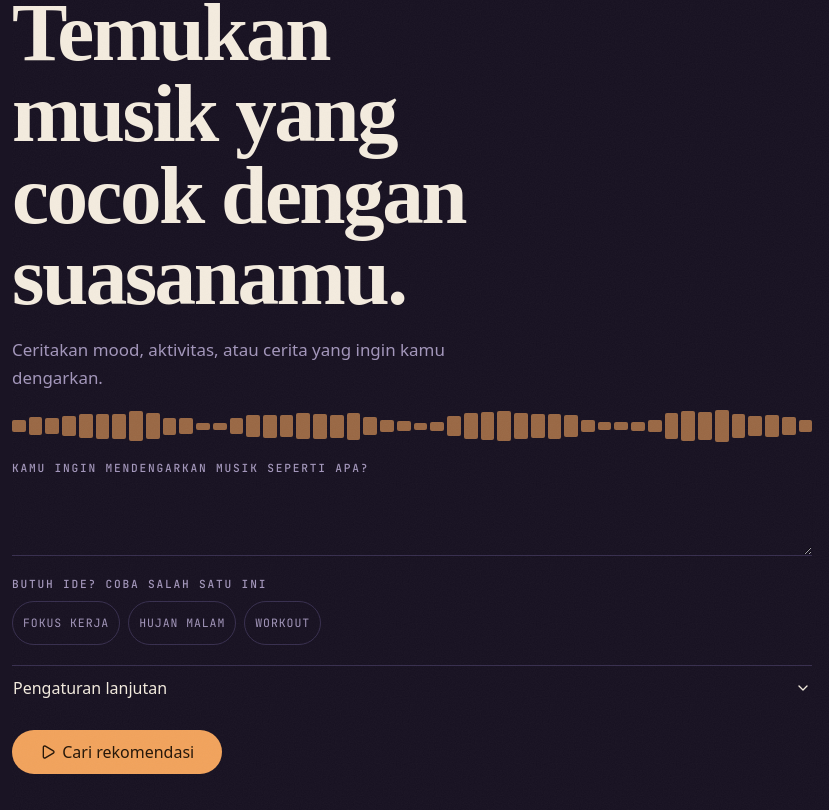
PromptComposer › shows localized validation for a whitespace-only prompt
(page scrolled)
Click the button "Cari rekomendasi" at (117, 752), box [12,730,222,774]
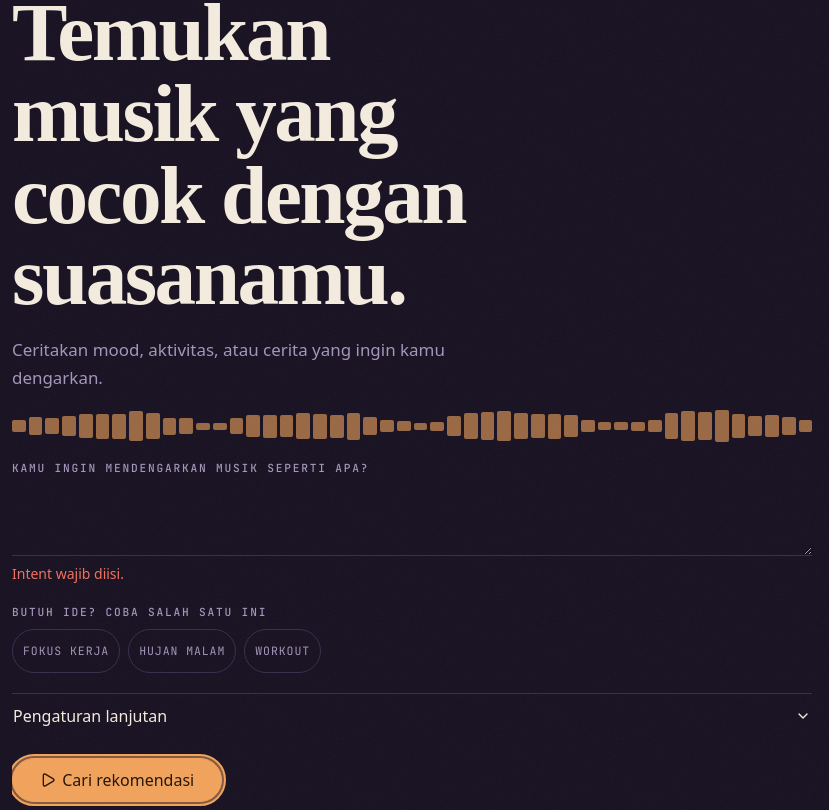
Expected: the text "Intent wajib diisi." is shown, [12,564,124,583]
